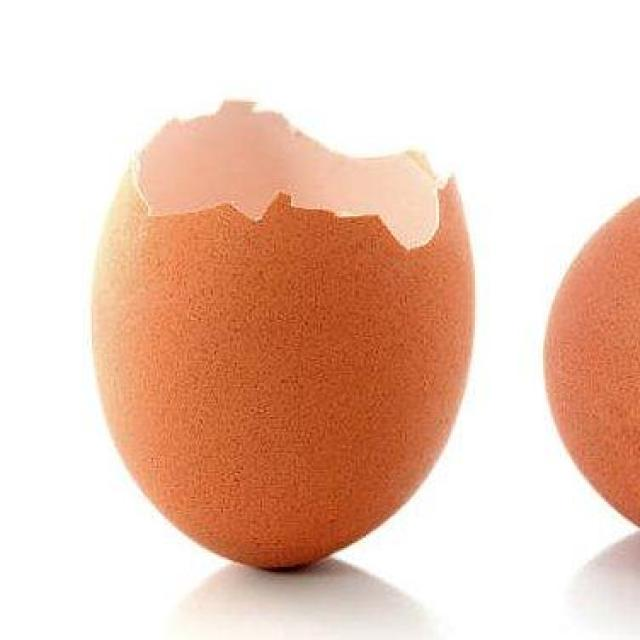organic: (87, 99, 483, 575), (543, 196, 640, 531)
